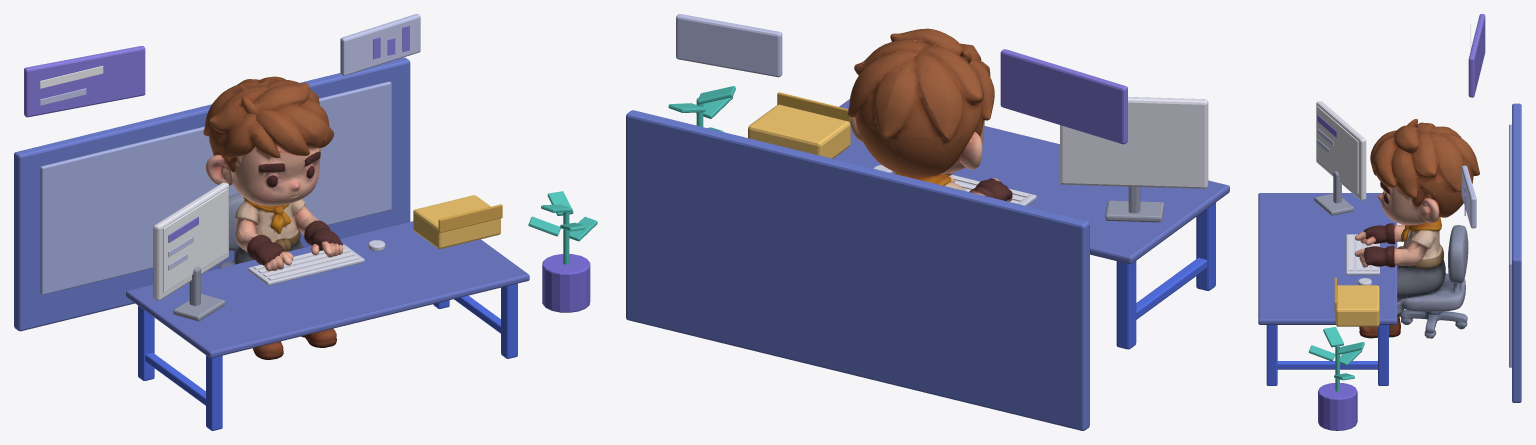
File: desk-scene.glb
3 renders of one model, left to right at view 1: azimuth 30°, elevation 25°; view 2: azimuth 150°, elevation 25°; view 3: azimuth 270°, elevation 25°, orthographic. The views are drawn at different scales.
Visible parts, largest first — view 1: panel_in, desk_top, toy_desk, panel, card_a, mon_screen, card_b, tray, pot, mon_body, desk_leg_-1_-1, desk_leg_1_-1 (+7 smaller); view 2: panel, toy_desk, desk_top, mon_body, card_a, card_b, tray, desk_leg_-1_1, desk_leg_-1_-1, desk_rail_-1, mon_base, tray_lip; view 3: toy_desk, desk_top, panel, mon_screen, tray, pot, mon_body, card_a, desk_rail_1, panel_in, desk_leg_1_-1, card_b (+4 smaller).
Part boxes in pixels (x1,y1,x2,y2): panel_in: (40,81,391,294); desk_top: (126,221,529,358); toy_desk: (203,76,342,359); panel: (14,57,410,331); card_a: (24,46,145,117); mon_screen: (163,188,227,292); card_b: (340,14,420,75); tray: (413,195,500,248); pot: (542,254,590,312); mon_body: (153,182,228,300); desk_leg_-1_-1: (206,355,222,430); desk_leg_1_-1: (501,283,517,358); panel: (626,110,1089,430); toy_desk: (847,28,1012,201); desk_top: (833,99,1229,264); mon_body: (1060,97,1208,188); card_a: (1000,49,1127,144); card_b: (676,14,782,77); tray: (748,104,850,158); desk_leg_-1_1: (1116,261,1136,349); desk_leg_-1_-1: (1196,202,1215,290); desk_rail_-1: (1136,258,1207,319); mon_base: (1105,200,1164,222); tray_lip: (777,92,851,123); toy_desk: (1354,119,1479,338); desk_top: (1258,193,1397,324); panel: (1512,103,1521,402); mon_screen: (1317,106,1358,193); tray: (1335,285,1379,326); pot: (1318,383,1357,430); mon_body: (1316,101,1366,200); card_a: (1468,14,1485,97); desk_rail_1: (1277,361,1377,369); panel_in: (1509,124,1511,367); desk_leg_1_-1: (1266,325,1277,385); card_b: (1461,165,1476,228).
Bounding box in the file's own units: 2.31 × 1.27 × 1.32.
Materials: 16 (1 with a texture image).
